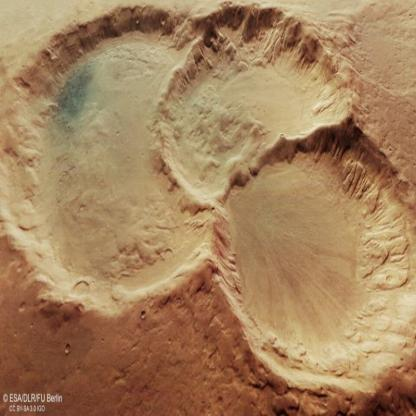craters: (0, 4, 223, 326), (198, 105, 416, 415), (153, 0, 369, 206)
